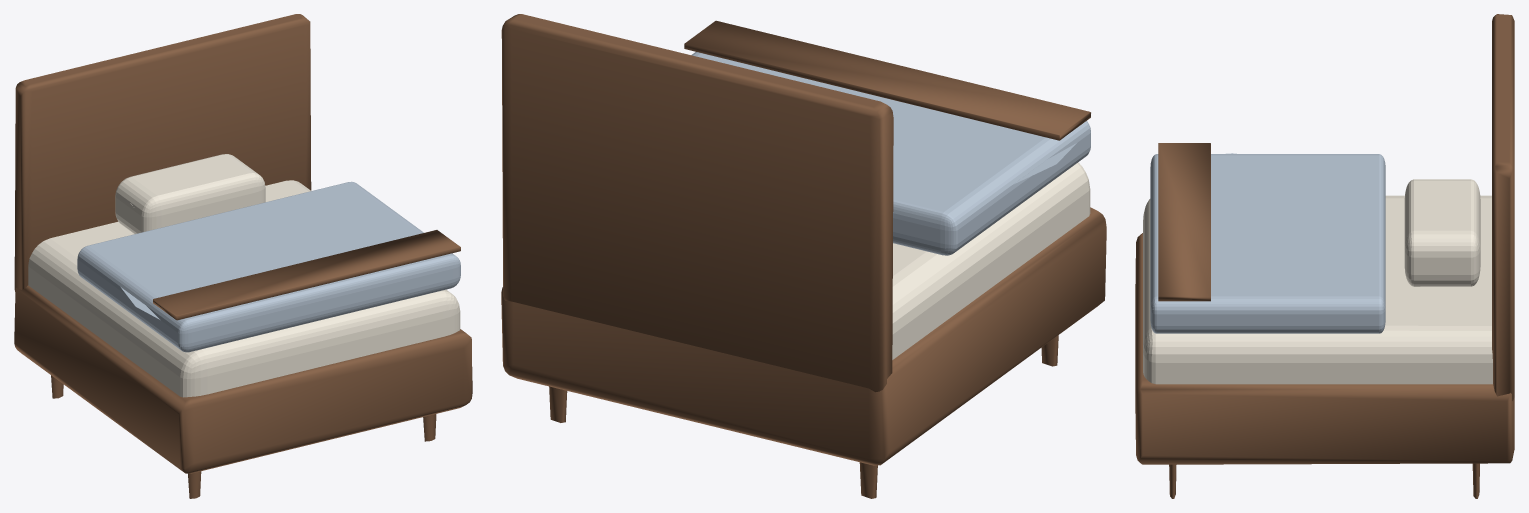
The model's file is bed-2-3.lod.glb.
The picture shows the model from 3 angles, left to right: view 1: azimuth 30°, elevation 25°; view 2: azimuth 150°, elevation 25°; view 3: azimuth 270°, elevation 25°; orthographic projection. The views are drawn at different scales.
Parts seen in each view (by area): view 1: part, tailored-cushion (×2); view 2: part, tailored-cushion (×2); view 3: tailored-cushion (×2), part.
Boxes of the visible parts, <box> form: part: <box>14,14,472,498</box>; tailored-cushion (×2): <box>28,154,460,397</box>; part: <box>501,14,1106,498</box>; tailored-cushion (×2): <box>691,52,1090,359</box>; tailored-cushion (×2): <box>1143,153,1492,384</box>; part: <box>1135,14,1514,498</box>.
Size of the model in its own units: 1 by 1 by 1.
